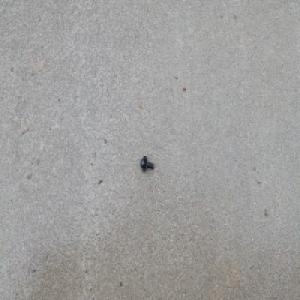BoltWasher: (140, 154, 155, 172)
